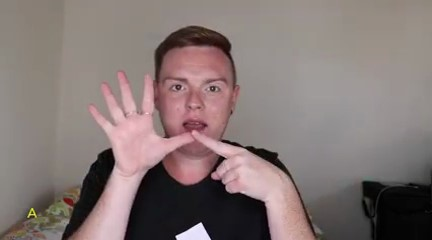A: (83, 67, 297, 202)
